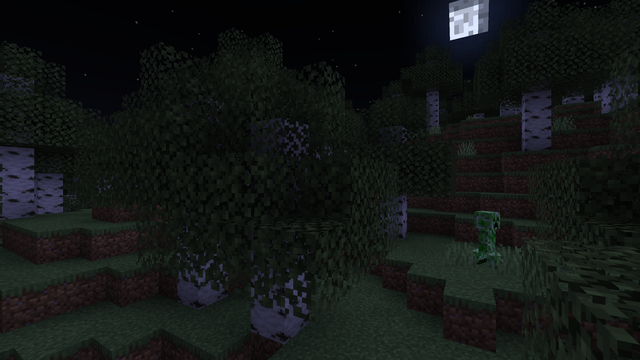creepers: (475, 208, 499, 268)
